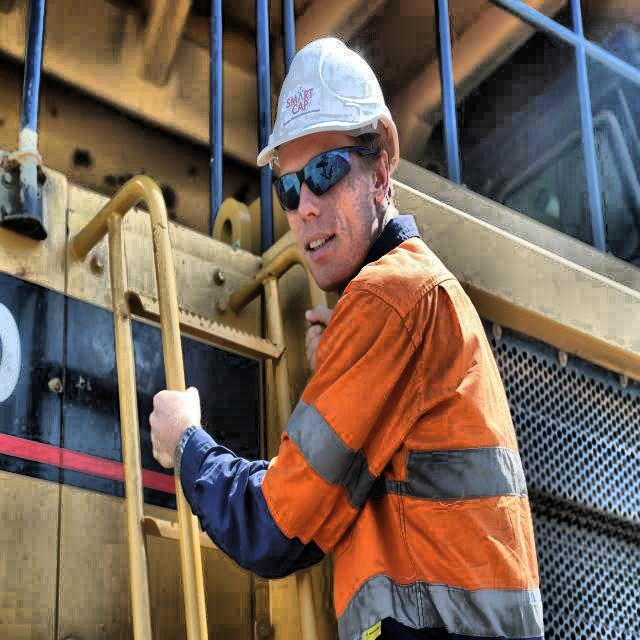person: (192, 33, 554, 640)
